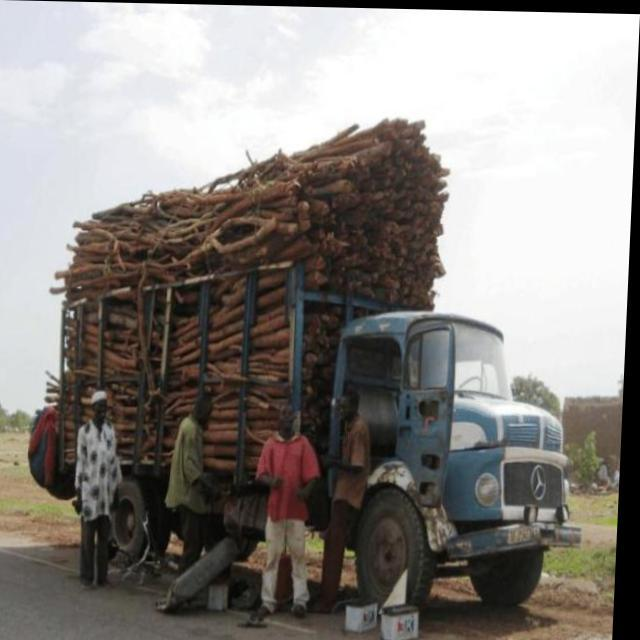uncovered: (54, 167, 580, 594)
